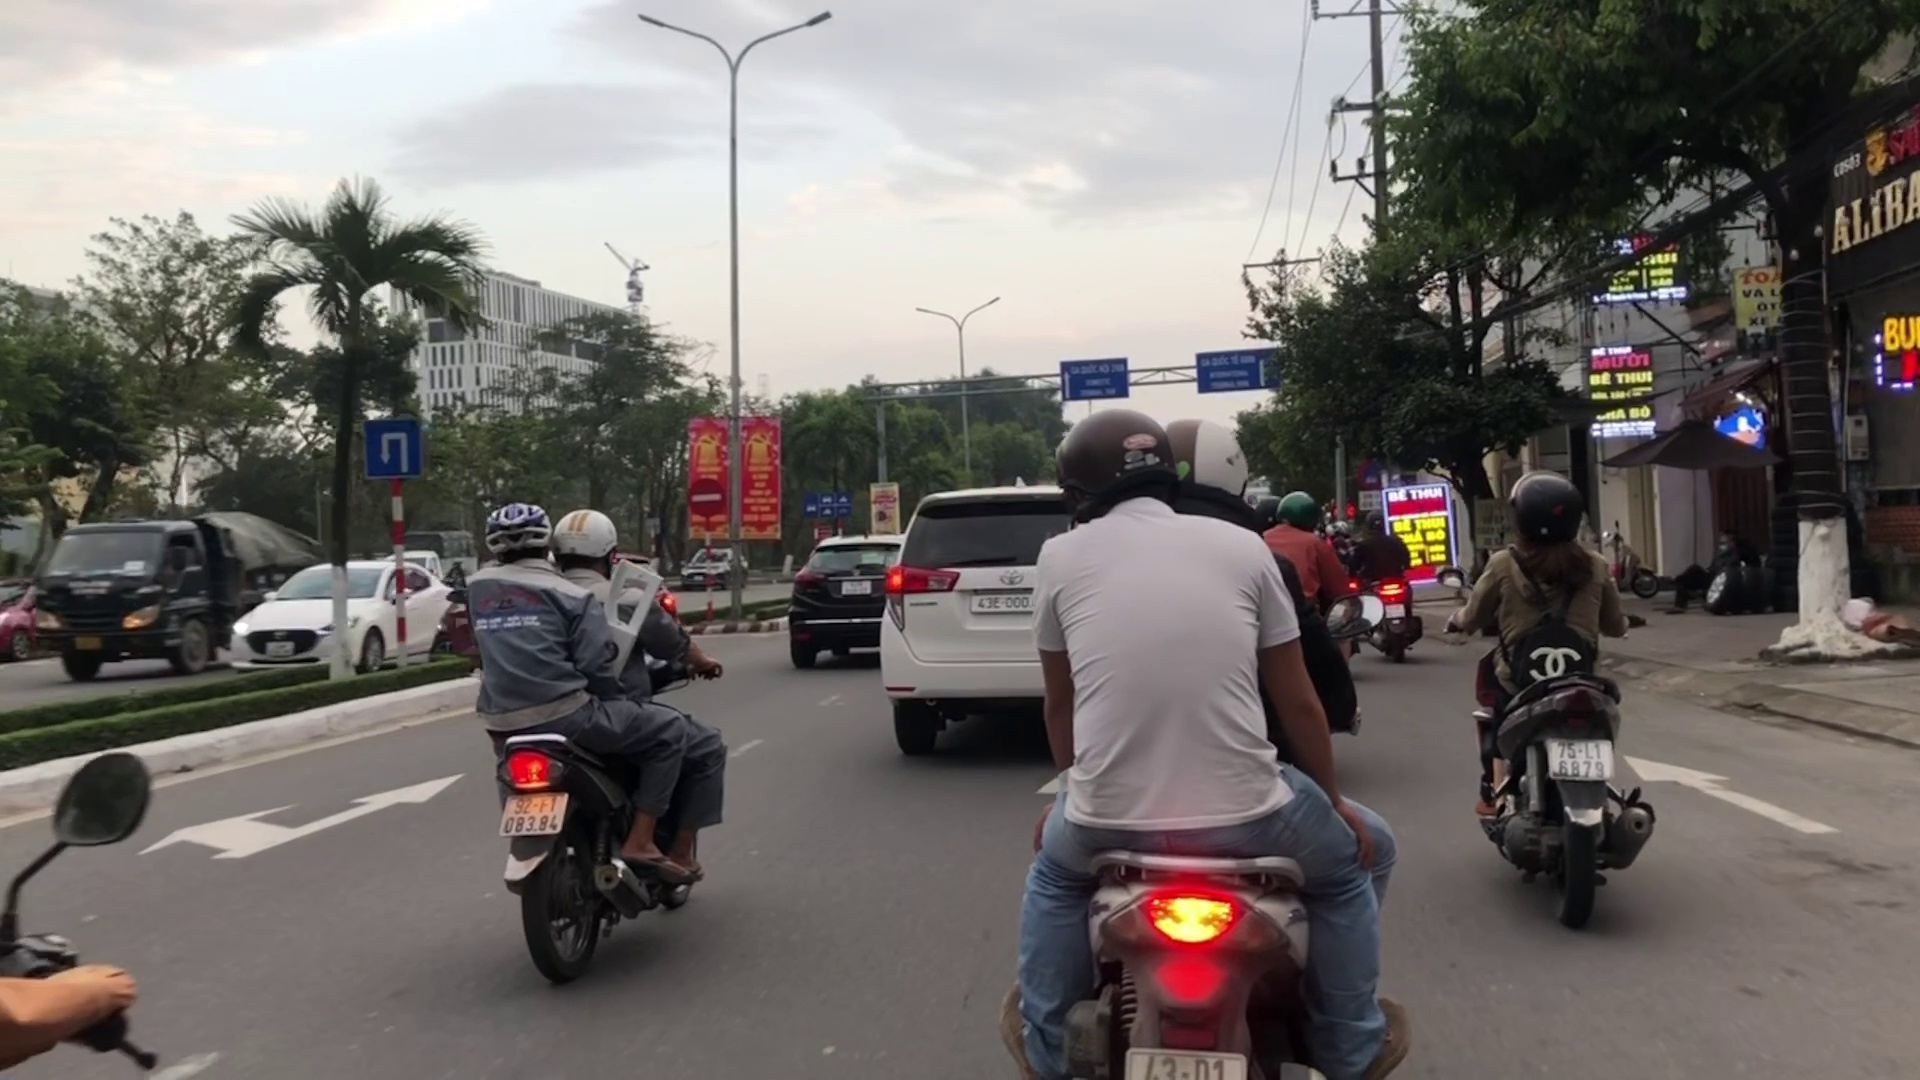Bien khac: (357, 413, 419, 483)
Cam di nguoc chieu: (688, 480, 725, 521)
